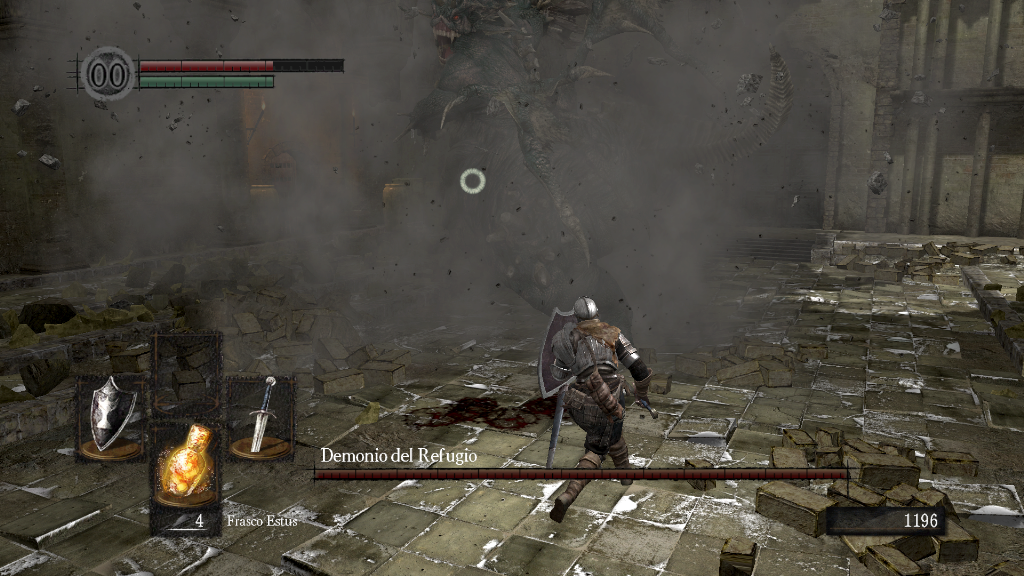bossHP: (314, 469, 847, 479)
health: (138, 58, 343, 71)
humanity: (80, 45, 136, 102)
player: (539, 296, 661, 527)
souls: (825, 506, 945, 536)
stamina: (138, 74, 274, 88)
